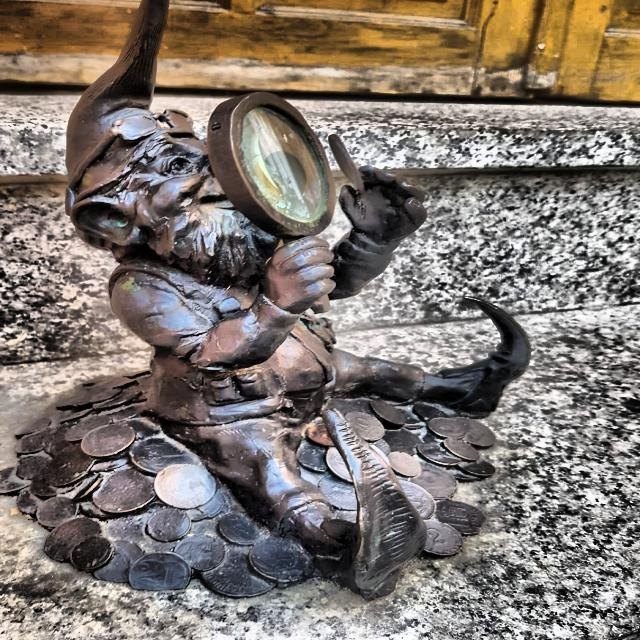Numizmatyk: (2, 0, 529, 599)
